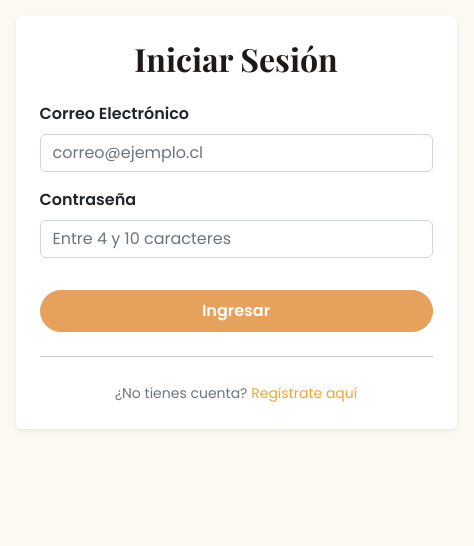
Test: Login Component Unit Tests › debe mostrar error con credenciales incorrectas
Type "noexiste@correo.cl" into the field labelled "Correo Electrónico" at (236, 153), box [40,134,432,172]
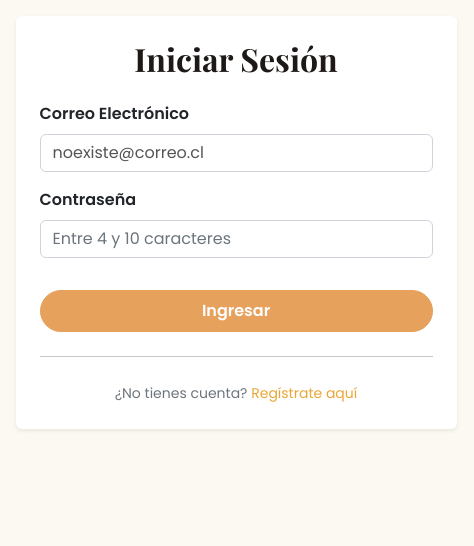
Type "clave123" into the password field labelled "Contraseña" at (236, 239), box [40,220,432,258]
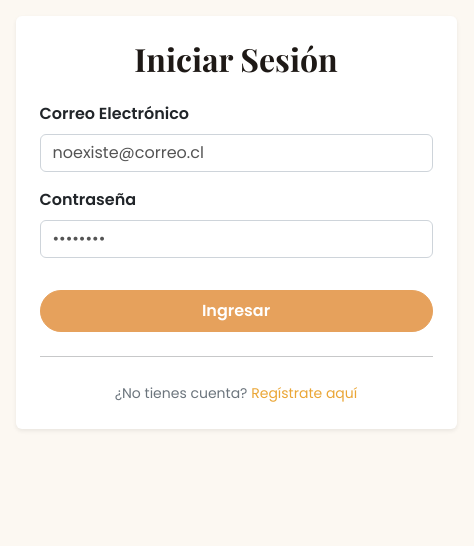
Click the button "Ingresar" at (236, 311), box [40,290,432,332]
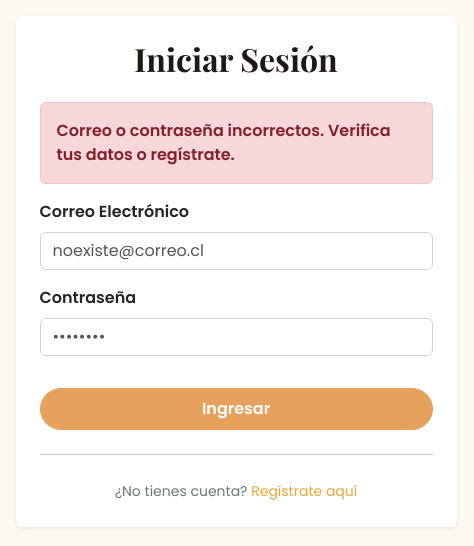
Expected: the text "Correo o contraseña incorrectos. Verifica tus datos o regístrate." is shown, [40,102,432,184]
